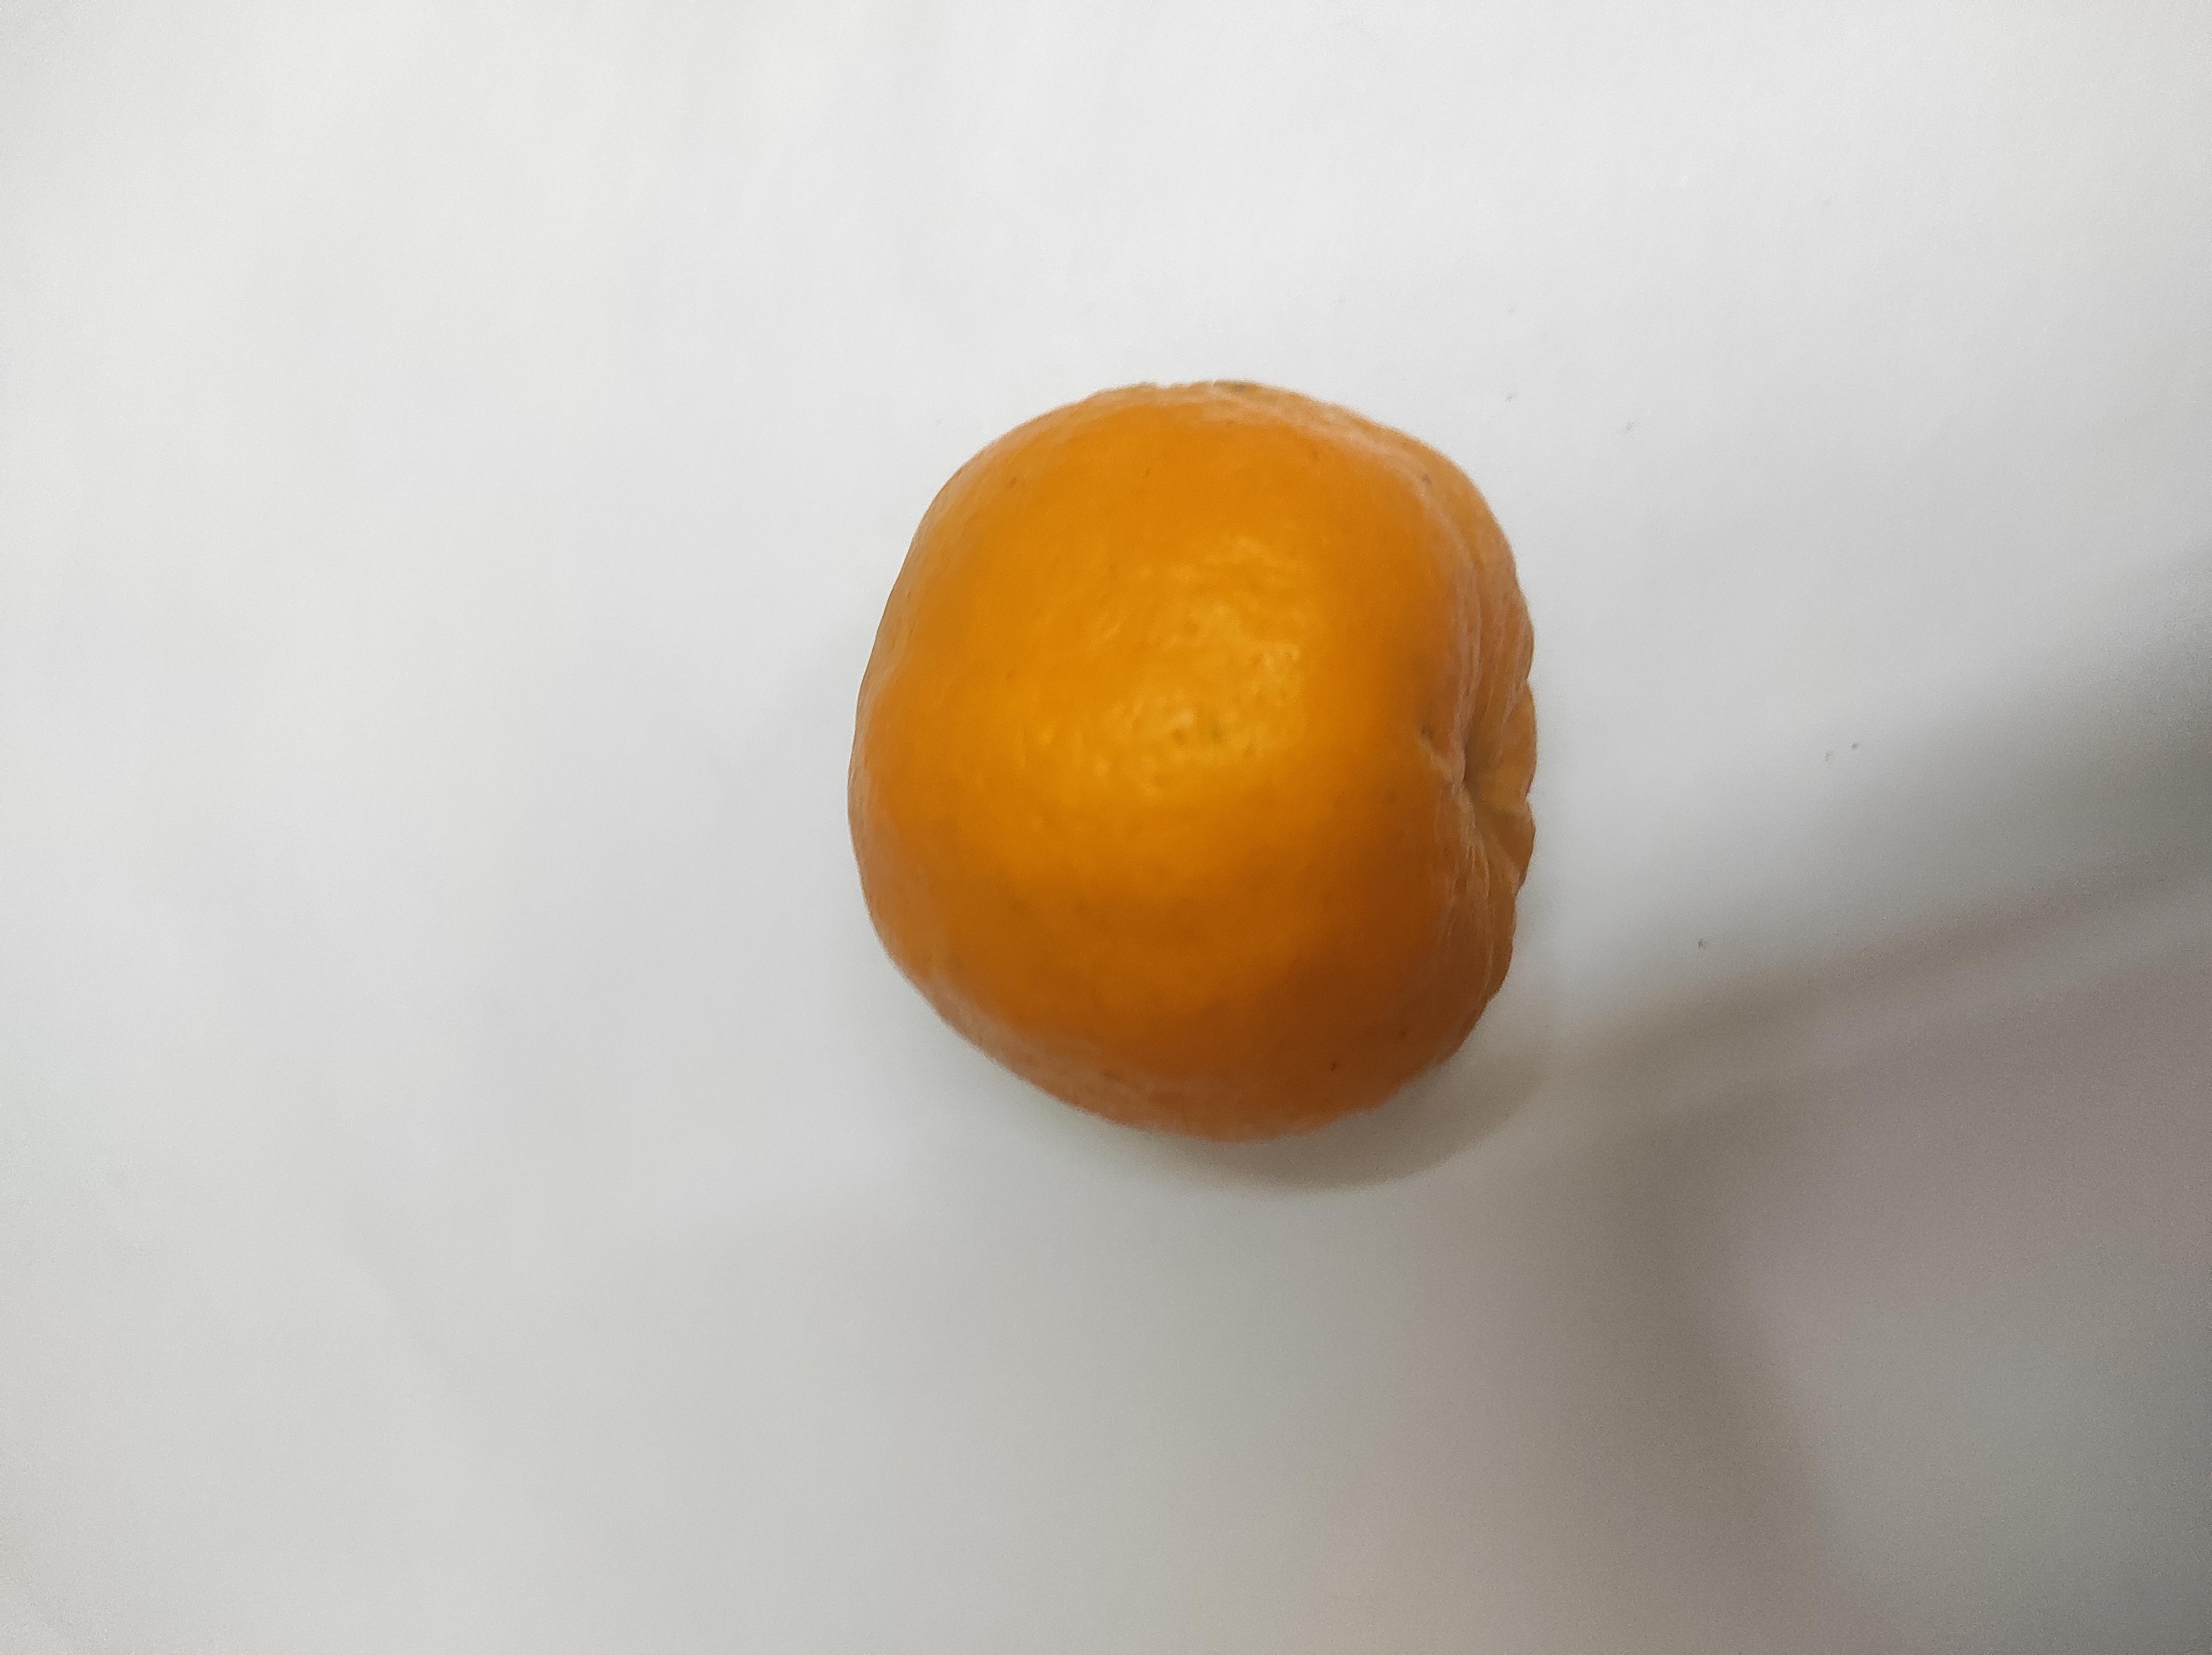Ripe: (849, 372, 1539, 1130)
